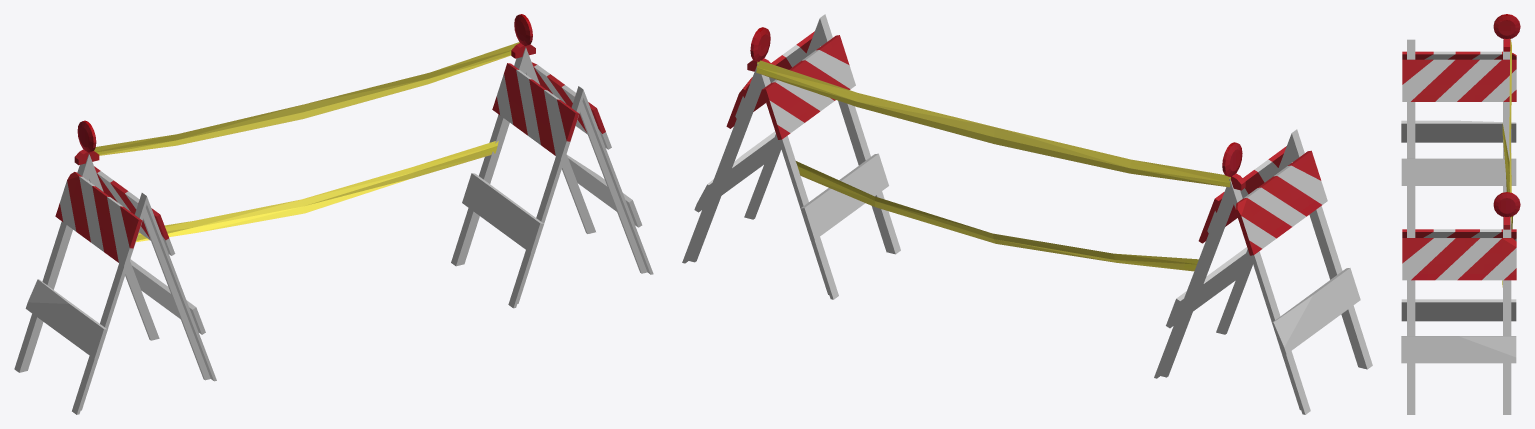
The model's file is RoadBlock02.fbx.
The picture shows the model from 3 angles, left to right: view 1: azimuth 30°, elevation 25°; view 2: azimuth 150°, elevation 25°; view 3: azimuth 270°, elevation 25°; orthographic projection. The views are drawn at different scales.
Visible parts, largest first — view 1: SM_Sign_Roadlblock_03.mo; view 2: SM_Sign_Roadlblock_03.mo; view 3: SM_Sign_Roadlblock_03.mo.
Part boxes in pixels (box(x1,y1,x2,y2)): SM_Sign_Roadlblock_03.mo: box(14, 14, 653, 414); SM_Sign_Roadlblock_03.mo: box(682, 14, 1372, 414); SM_Sign_Roadlblock_03.mo: box(1401, 14, 1520, 414).
Bounding box in the file's own units: 292 × 112 × 62.44.
